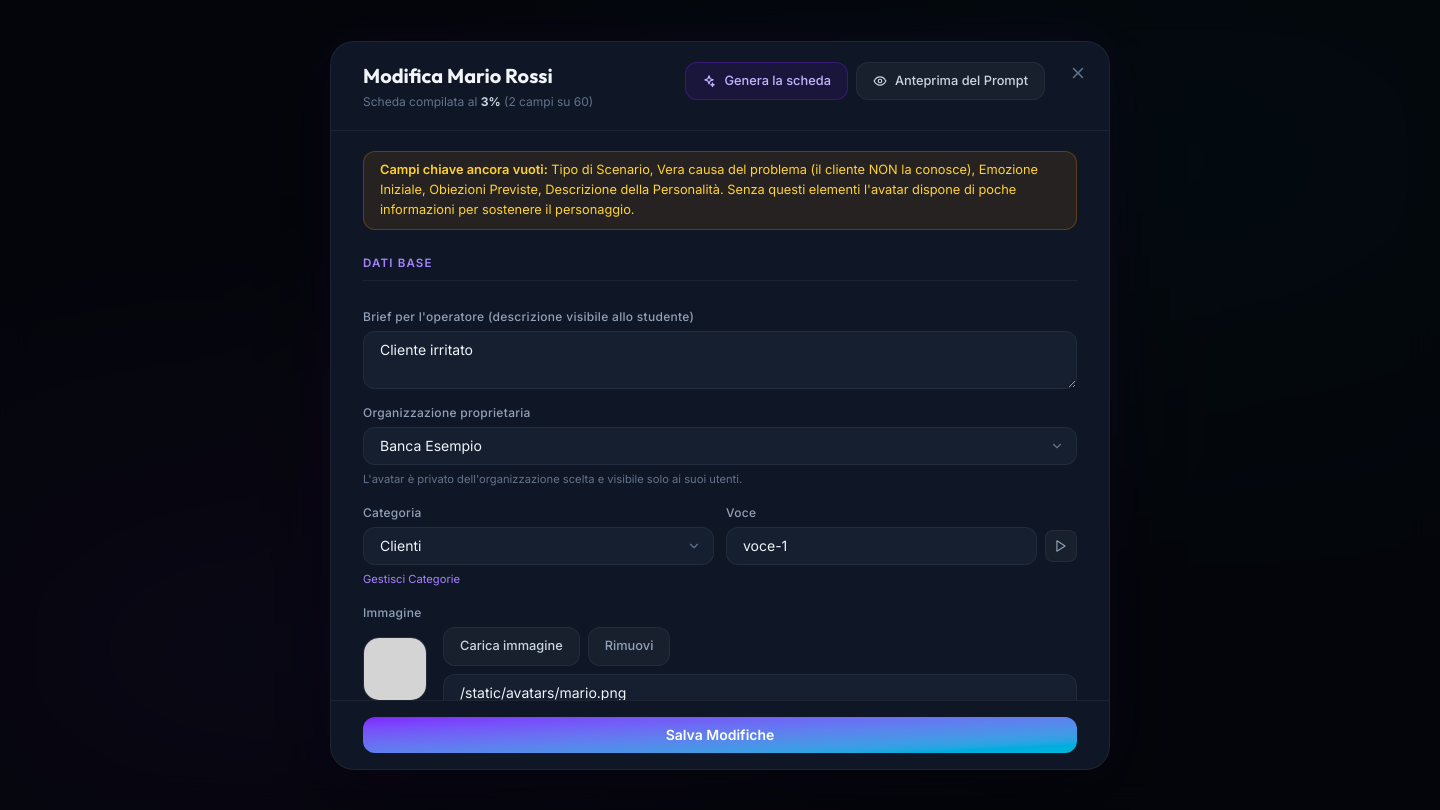
Test: la conferma di uscita › si mette in mezzo quando qualcosa è cambiato
In the text box labelled "Brief per l'operatore (descrizione visibile allo studente)": x=720, y=360 [363, 331, 1077, 389], type "!"
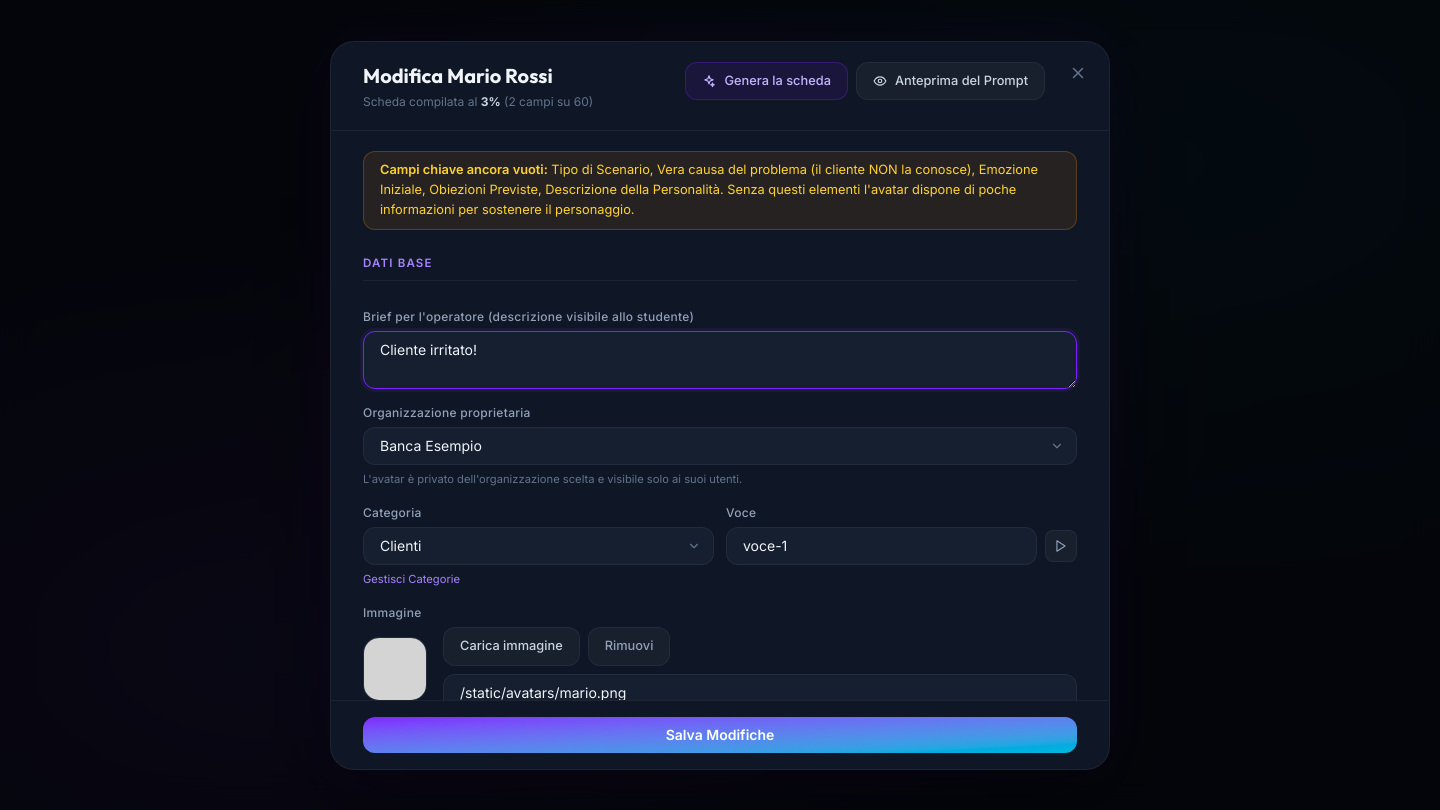
Click the button named "Chiudi": x=1078, y=72 [1063, 58, 1093, 88]
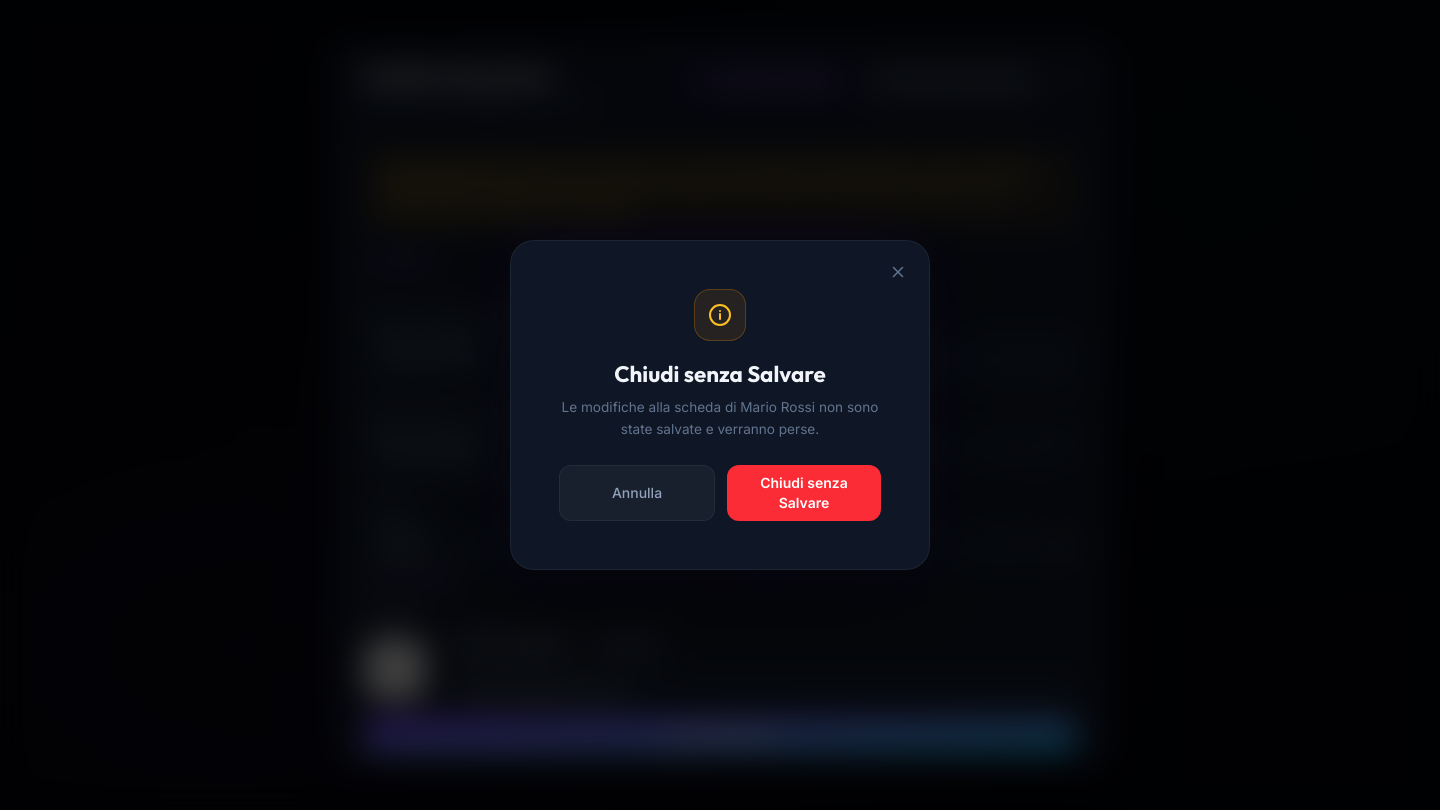
Result: the dialog "Chiudi senza Salvare" is shown at [510, 240, 930, 570]
